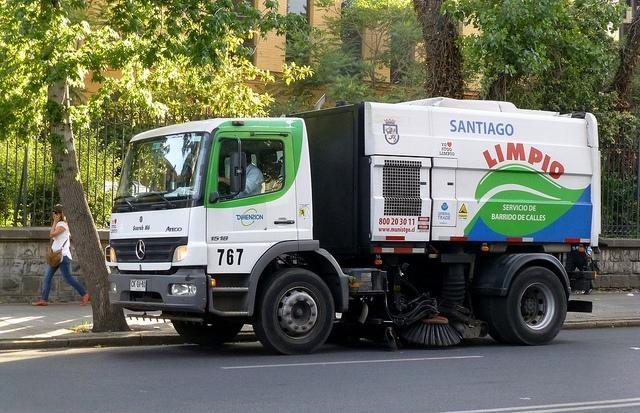truck: (105, 97, 604, 355)
